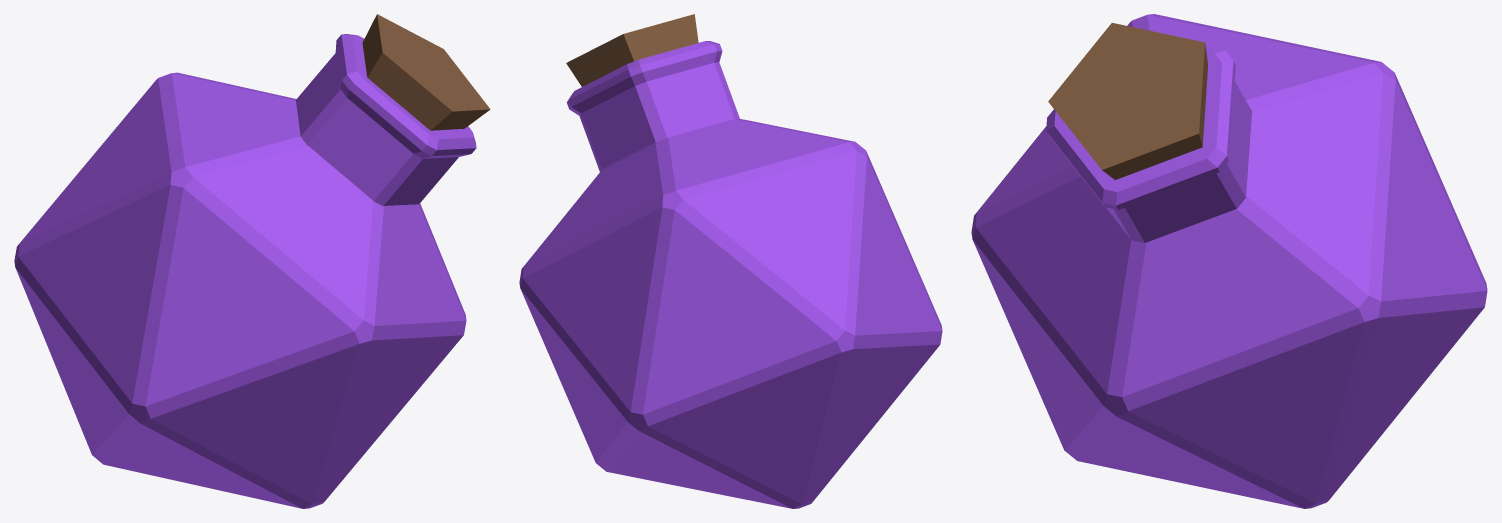
File: Potion_03_Purple.fbx
3 views of the same model, side by side, from view 1: azimuth 30°, elevation 25°; view 2: azimuth 150°, elevation 25°; view 3: azimuth 270°, elevation 25° (orthographic). The views are drawn at different scales.
Parts seen in each view (by area): view 1: Icosphere.010, Cylinder.064, Cylinder.065; view 2: Icosphere.010, Cylinder.064, Cylinder.065; view 3: Icosphere.010, Cylinder.065, Cylinder.064.
Part boxes in pixels (left/top/right/bottom): Icosphere.010: left=14, top=72, right=466, bottom=508; Cylinder.064: left=295, top=34, right=476, bottom=206; Cylinder.065: left=362, top=14, right=490, bottom=130; Icosphere.010: left=519, top=119, right=942, bottom=508; Cylinder.064: left=566, top=41, right=739, bottom=171; Cylinder.065: left=566, top=14, right=698, bottom=86; Icosphere.010: left=971, top=14, right=1487, bottom=508; Cylinder.065: left=1048, top=23, right=1208, bottom=179; Cylinder.064: left=1046, top=46, right=1251, bottom=242.
Size of the model in its own units: 22.22 by 24.31 by 23.44.
